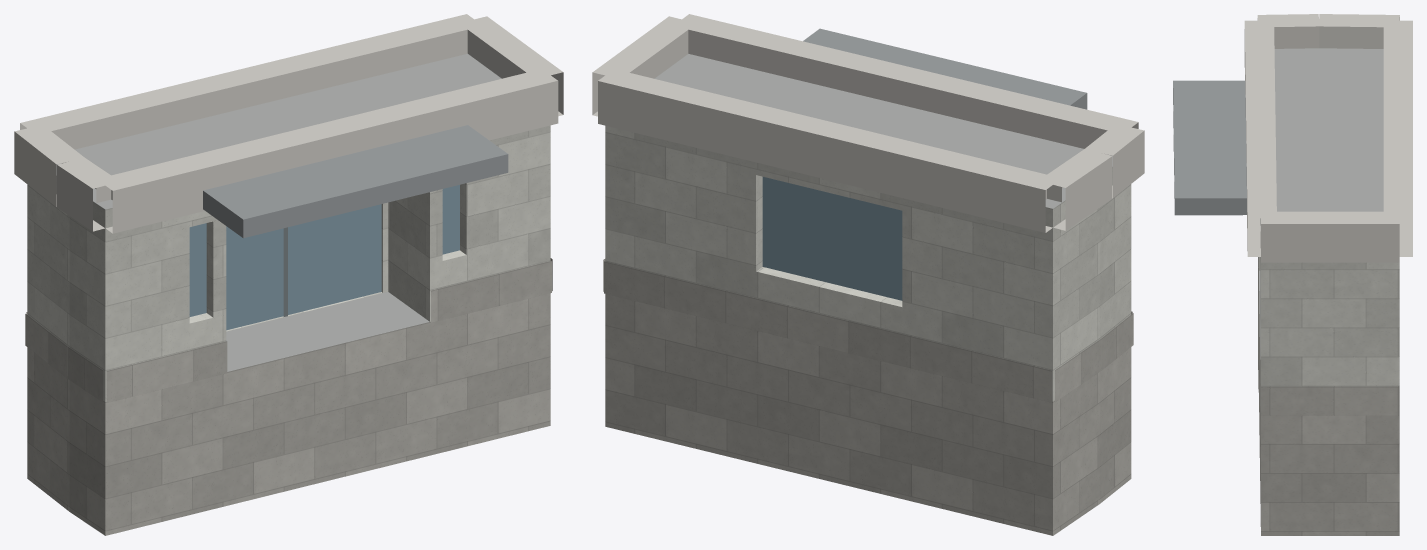
3 views of the same model, side by side, from view 1: azimuth 30°, elevation 25°; view 2: azimuth 150°, elevation 25°; view 3: azimuth 270°, elevation 25° (orthographic). The views are drawn at different scales.
Visible parts, largest first — view 1: auditoriumAnnexE15__base, auditoriumAnnexE15__trim, auditoriumAnnexE15__wall, auditoriumAnnexE15__roof, auditoriumAnnexE15__glass, auditoriumAnnexE15__canopy; view 2: auditoriumAnnexE15__base, auditoriumAnnexE15__wall, auditoriumAnnexE15__trim, auditoriumAnnexE15__roof, auditoriumAnnexE15__glass, auditoriumAnnexE15__canopy; view 3: auditoriumAnnexE15__trim, auditoriumAnnexE15__base, auditoriumAnnexE15__roof, auditoriumAnnexE15__wall, auditoriumAnnexE15__canopy.
Boxes of the visible parts, x1,y1,x2,y2 form: auditoriumAnnexE15__base: (25,258,552,535); auditoriumAnnexE15__trim: (14,14,563,233); auditoriumAnnexE15__wall: (27,125,550,401); auditoriumAnnexE15__roof: (56,53,501,371); auditoriumAnnexE15__glass: (189,185,459,330); auditoriumAnnexE15__canopy: (203,125,508,238); auditoriumAnnexE15__base: (603,259,1133,535); auditoriumAnnexE15__wall: (605,125,1131,401); auditoriumAnnexE15__trim: (592,14,1144,232); auditoriumAnnexE15__roof: (654,54,1112,208); auditoriumAnnexE15__glass: (762,177,902,300); auditoriumAnnexE15__canopy: (803,28,1087,109); auditoriumAnnexE15__trim: (1244,14,1412,262); auditoriumAnnexE15__base: (1258,257,1399,535); auditoriumAnnexE15__roof: (1259,48,1383,359); auditoriumAnnexE15__wall: (1258,218,1399,405); auditoriumAnnexE15__canopy: (1173,80,1246,215).
Size of the model in its own units: 9.29 by 6.55 by 4.48.
Materials: 8 (2 with a texture image).
